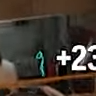hacks_2: (34, 51, 46, 77)
